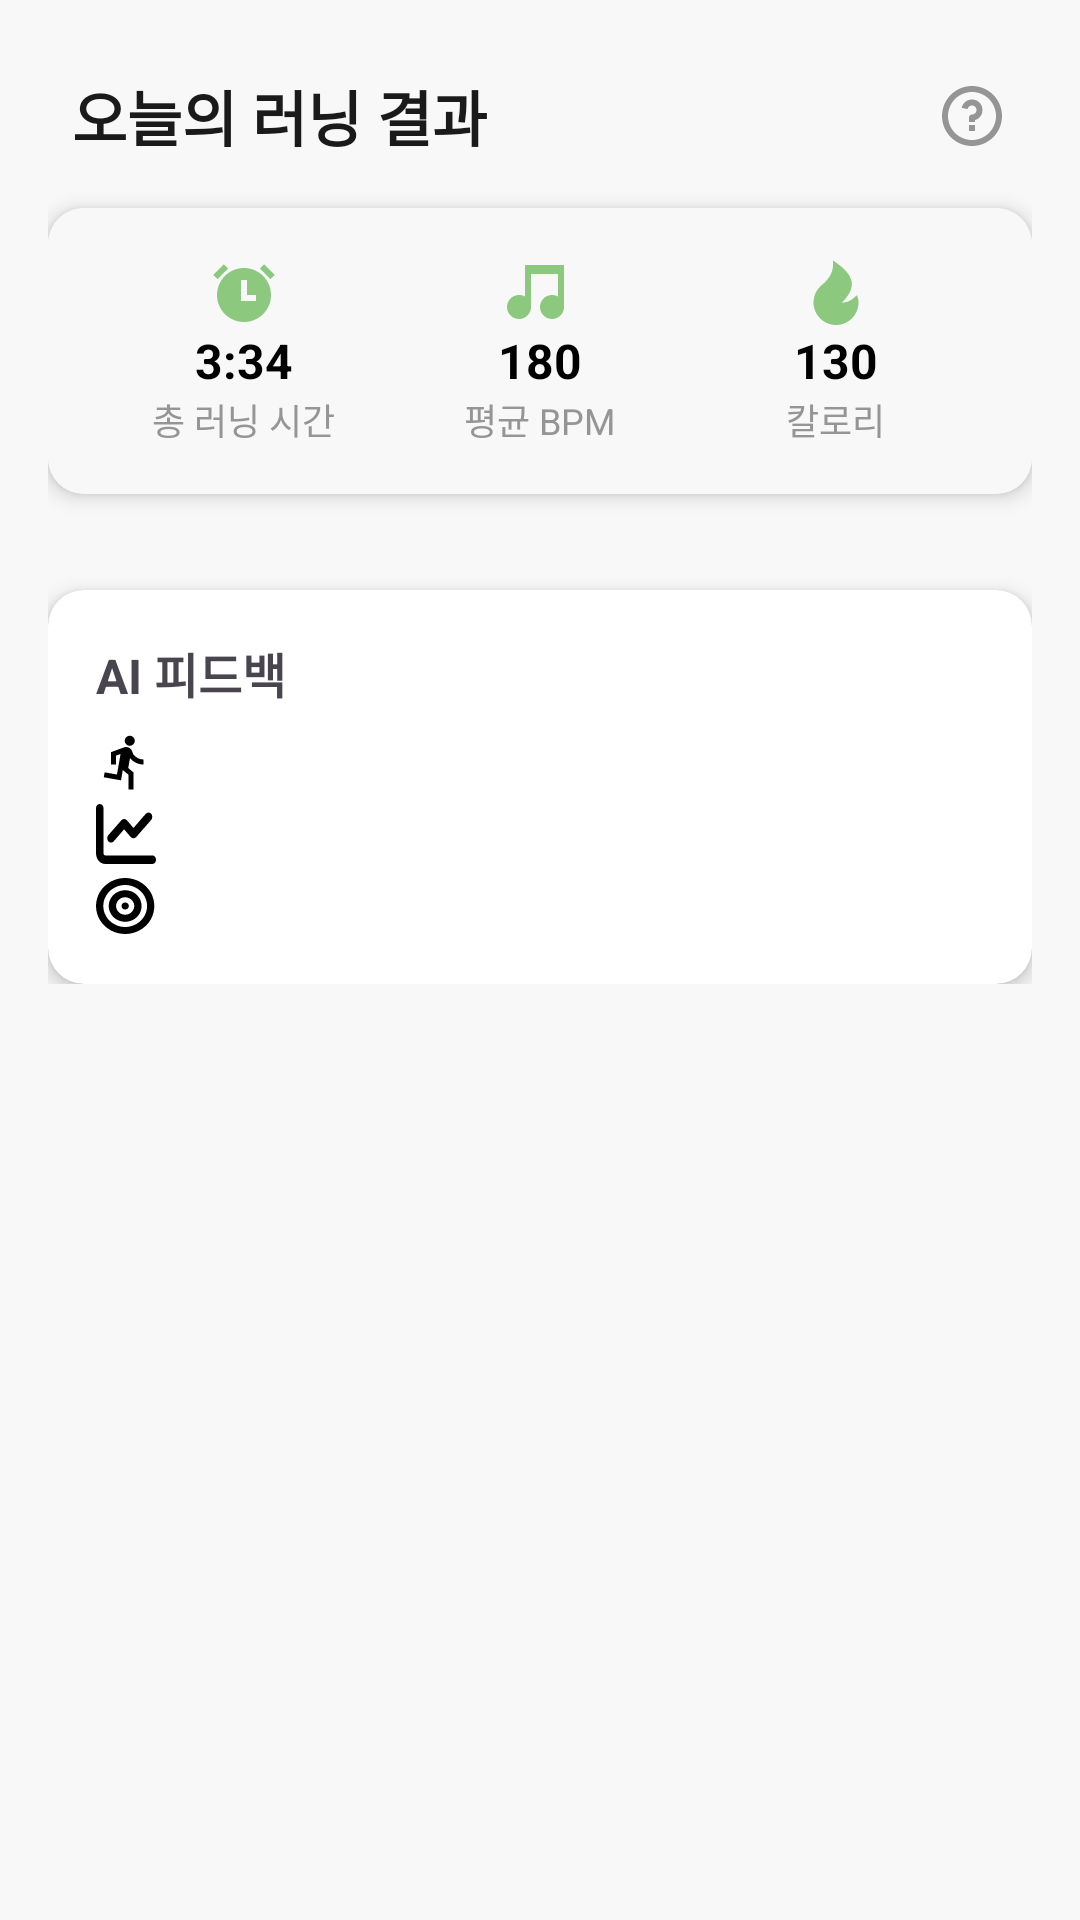

Icons on this 1080×1920 Android screen, each with the point to tap as (x,y):
fire: (836,293)
goal: (125,906)
music: (535,292)
record: (126,834)
ri question line: (972,116)
run: (124,762)
time: (244,293)
